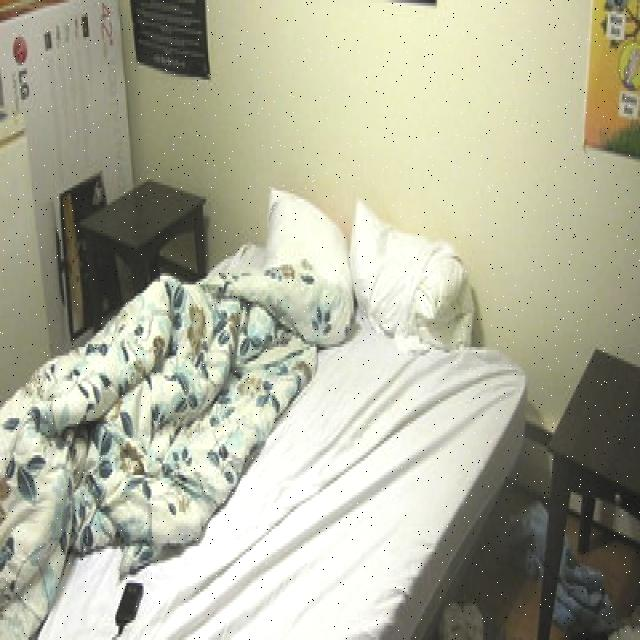bed: (0, 184, 532, 640)
